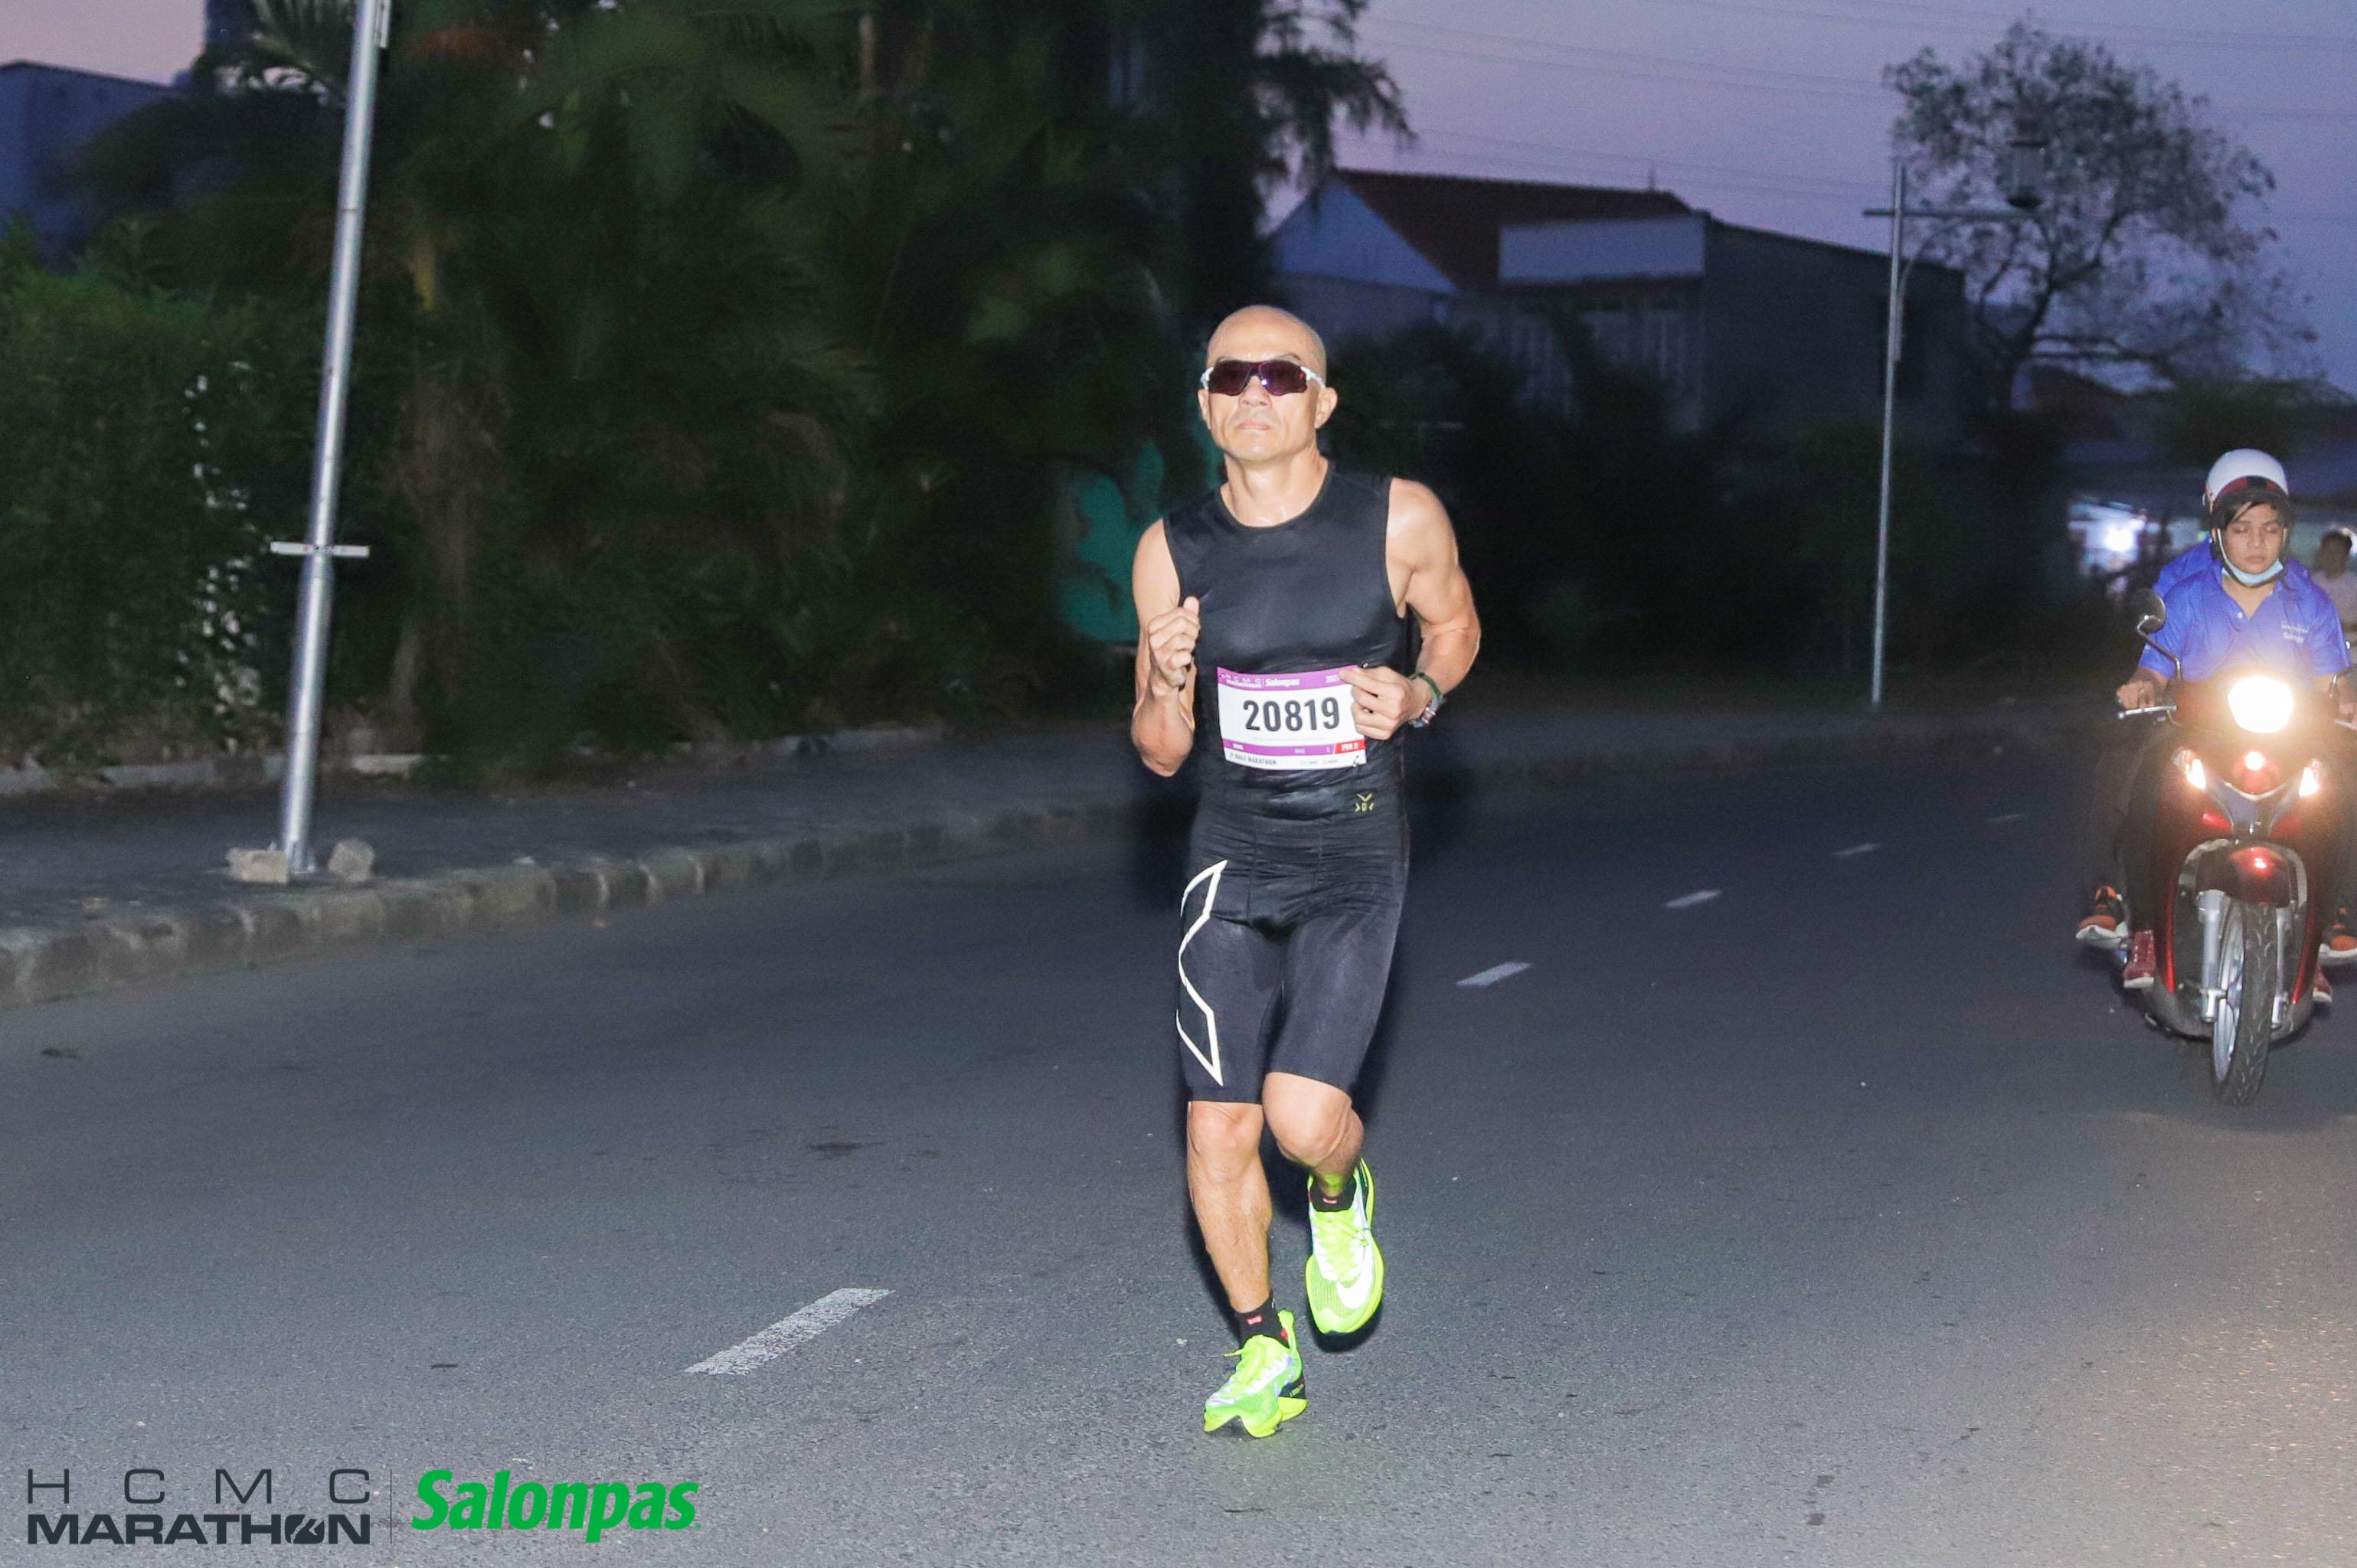bib: (1214, 672, 1370, 777)
